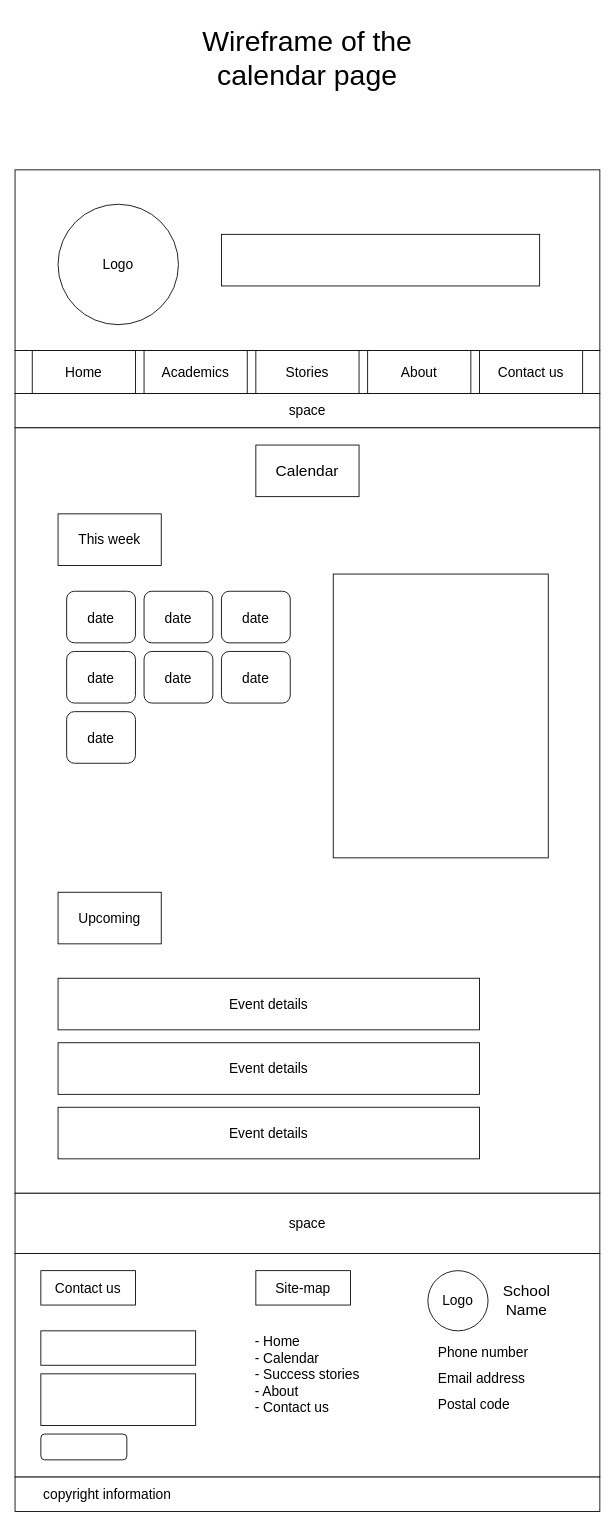
The diagram is 615 pixels wide and 1527 high, and some of its shapes have lost their labels. Each missing label, with the box of its shape:
email field: (40, 1330, 196, 1365)
Event details for a selected day: (332, 573, 548, 858)
message field: (40, 1373, 196, 1425)
Moto: (221, 233, 540, 286)
submit: (40, 1433, 127, 1460)
